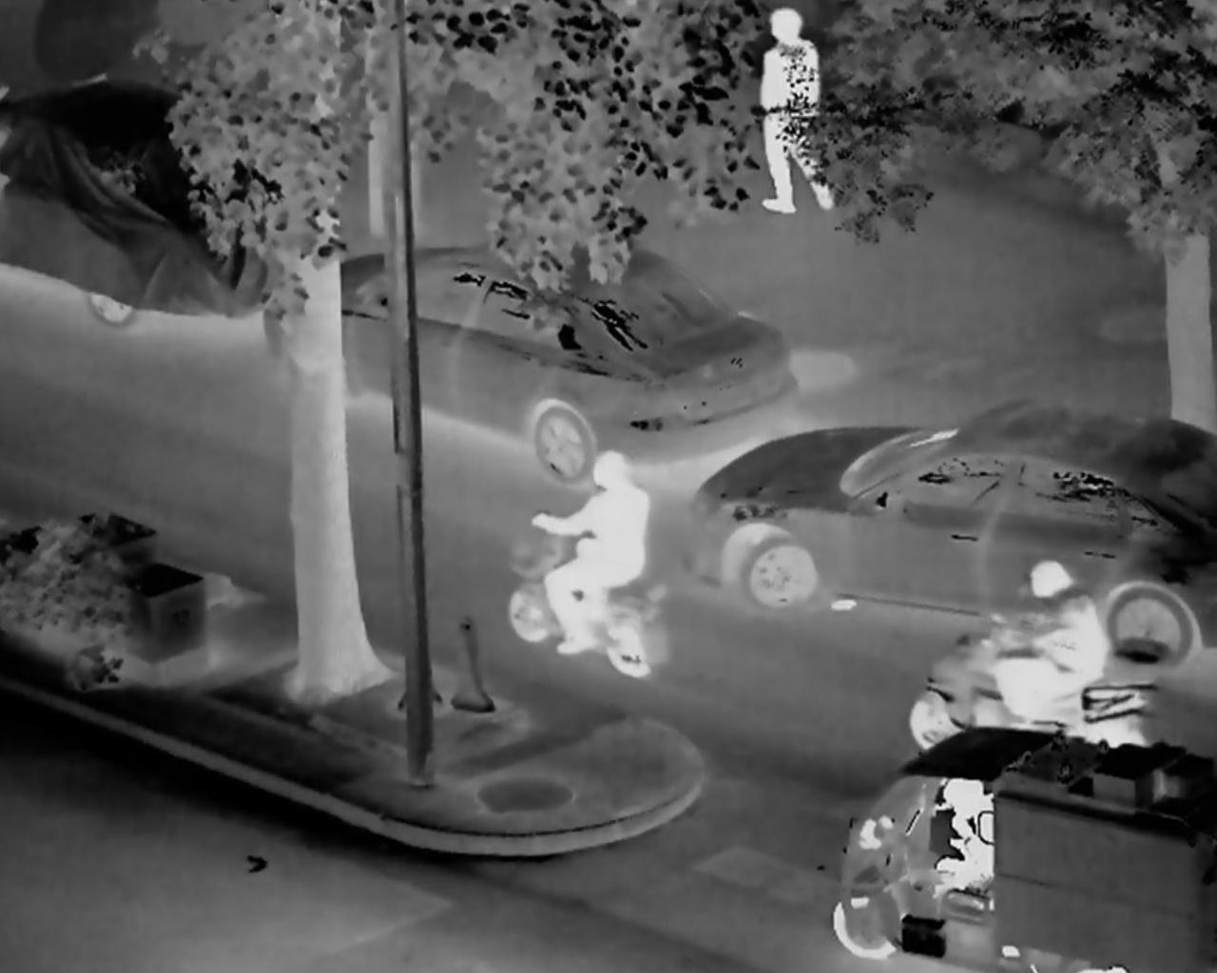person: (518, 433, 659, 685), (964, 544, 1112, 717), (733, 8, 839, 233), (925, 773, 1000, 922)
